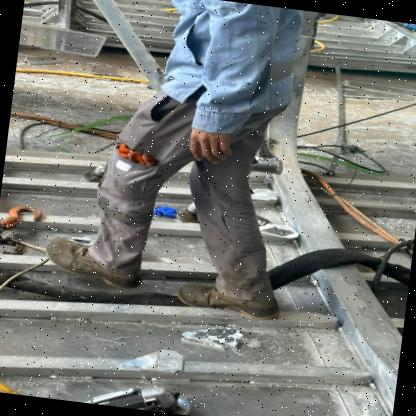bota: (38, 227, 152, 297), (174, 274, 286, 328)
